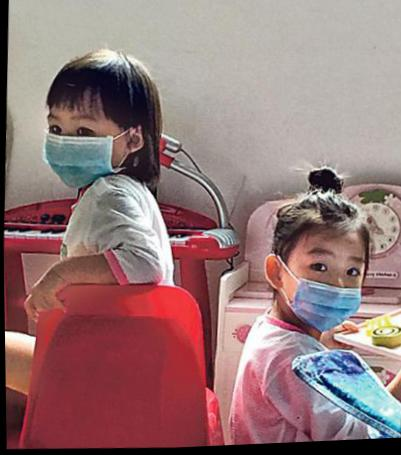OK: (42, 97, 119, 189)
WRONG: (289, 239, 368, 335)
